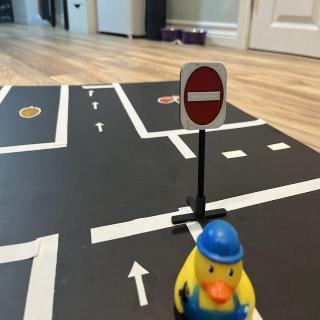duck_specialty: (175, 222, 263, 320)
road_oneway: (129, 259, 153, 311), (95, 120, 107, 137), (93, 99, 101, 113), (88, 90, 96, 100)
sign_noentry: (181, 65, 227, 129)
